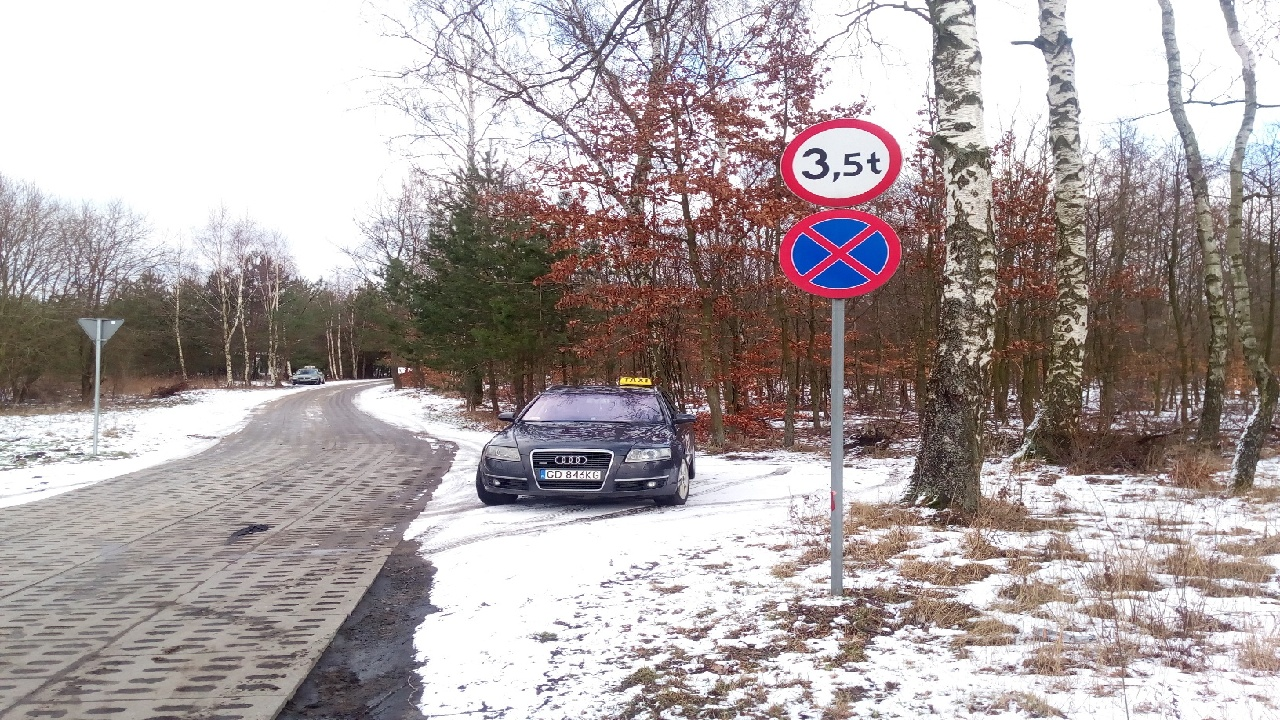B36: (778, 208, 903, 300)
